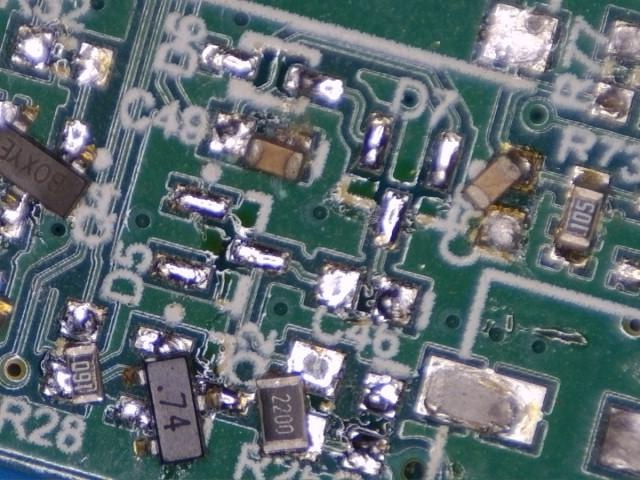pcb_defect: (115, 324, 253, 465), (0, 100, 98, 239), (255, 340, 347, 463), (463, 142, 544, 258), (208, 110, 314, 182), (40, 298, 107, 405)
